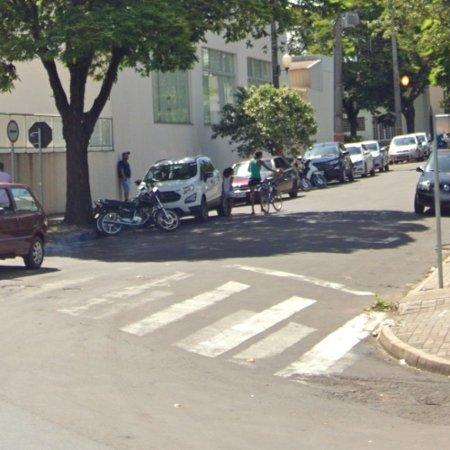crosswalks: (32, 270, 392, 393)
